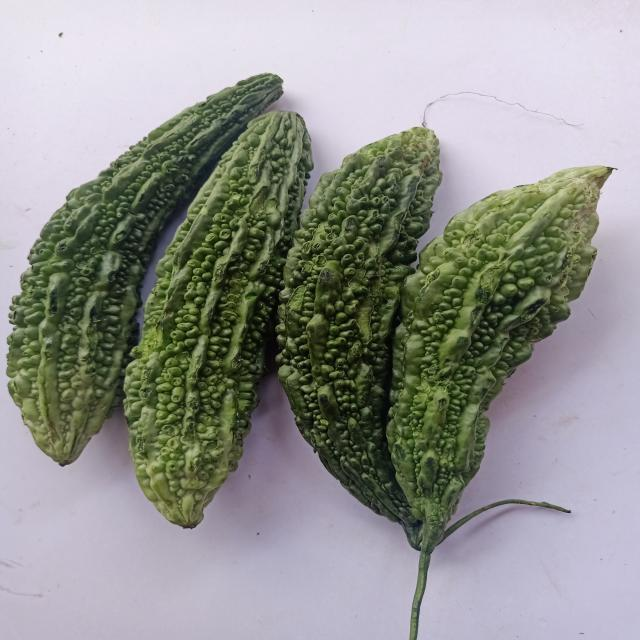Bitter Gourd: (1, 57, 303, 473), (389, 162, 624, 629), (118, 106, 317, 539), (277, 124, 449, 553)
